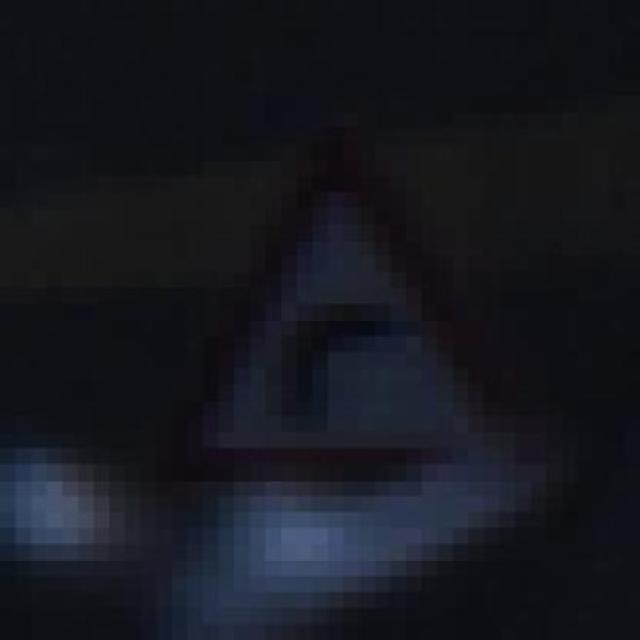Dangerous Rright Curve Ahead: (109, 112, 546, 512)
